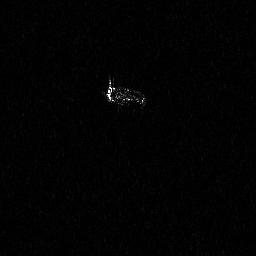ship: (104, 74, 149, 109)
